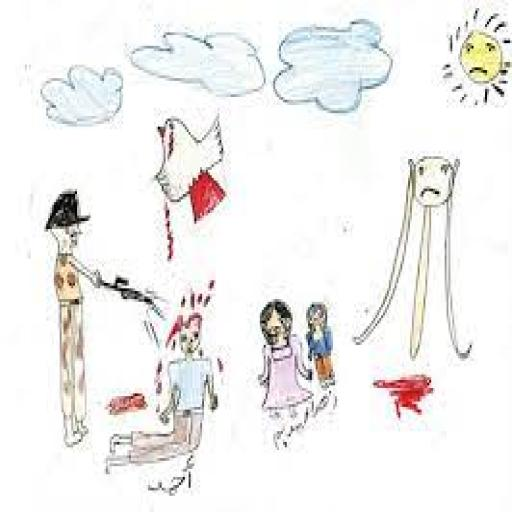person: (99, 279, 231, 503), (41, 176, 117, 462), (253, 290, 308, 460), (304, 288, 337, 425)
